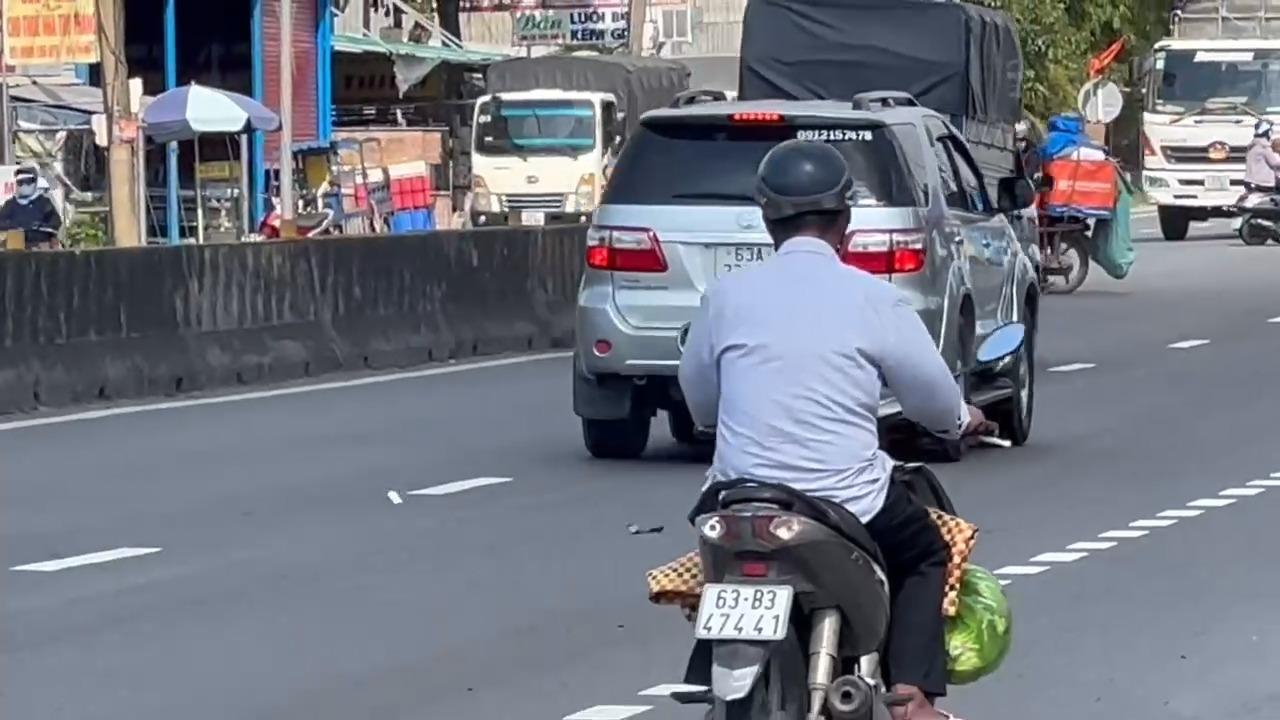bien_so: (692, 581, 794, 641)
